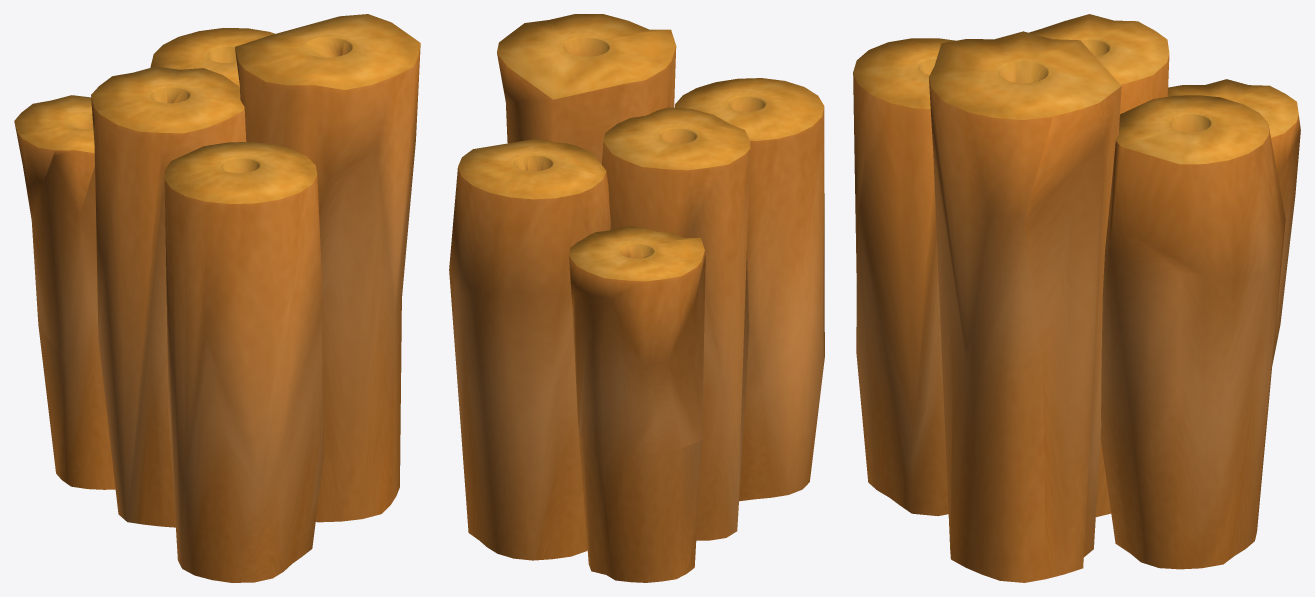
File: seaGrassCylinderOrangev1.fbx
3 views of the same model, side by side, from view 1: azimuth 30°, elevation 25°; view 2: azimuth 150°, elevation 25°; view 3: azimuth 270°, elevation 25° (orthographic). The views are drawn at different scales.
Visible parts, largest first — view 1: seaGrassCylinderOrangev1Object; view 2: seaGrassCylinderOrangev1Object; view 3: seaGrassCylinderOrangev1Object.
Part boxes in pixels (x1,y1,x2,y2): seaGrassCylinderOrangev1Object: (14, 14, 420, 582); seaGrassCylinderOrangev1Object: (449, 14, 824, 582); seaGrassCylinderOrangev1Object: (853, 14, 1300, 582).
Size of the model in its own units: 0.0809 by 0.1194 by 0.101.
1 material, 1 textured.
